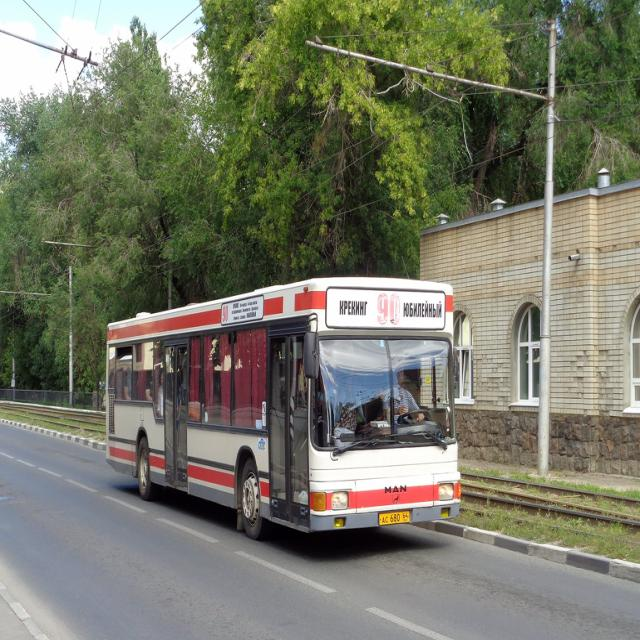number-of-bus: (376, 291, 402, 328), (223, 305, 231, 324)
